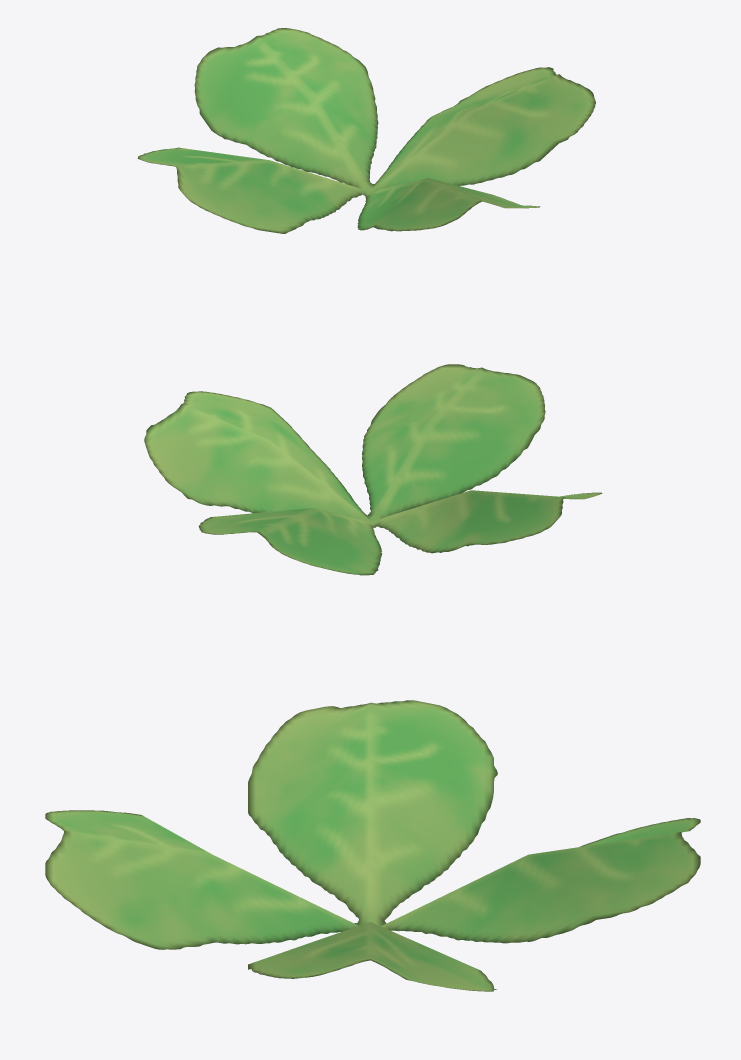
File: LeafSetD_2.fbx
3 renders of one model, top to bottom at view 1: azimuth 30°, elevation 25°; view 2: azimuth 150°, elevation 25°; view 3: azimuth 270°, elevation 25°, orthographic. The views are drawn at different scales.
Parts seen in each view (by area): view 1: LeafSetD_2; view 2: LeafSetD_2; view 3: LeafSetD_2.
Part boxes in pixels (x1=…): LeafSetD_2: x1=137, y1=28, x2=595, y2=233; LeafSetD_2: x1=144, y1=364, x2=602, y2=575; LeafSetD_2: x1=45, y1=700, x2=700, y2=991.
Size of the model in its own units: 0.2838 by 0.0465 by 0.2829.
